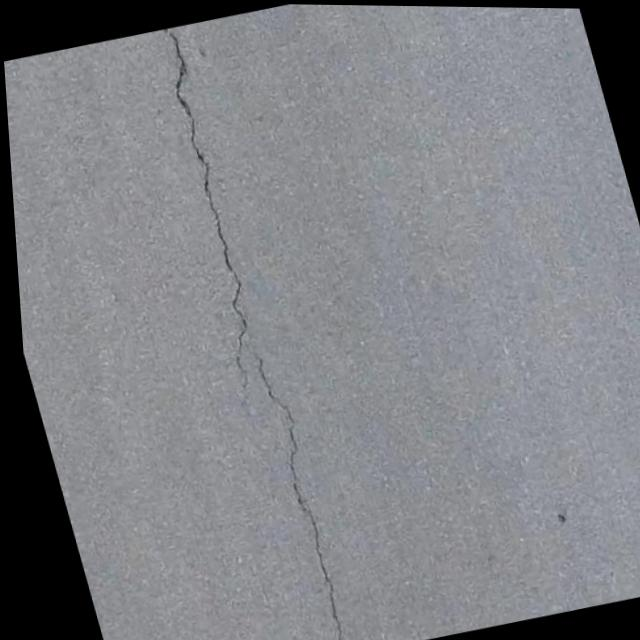Crack: (129, 16, 384, 640)
